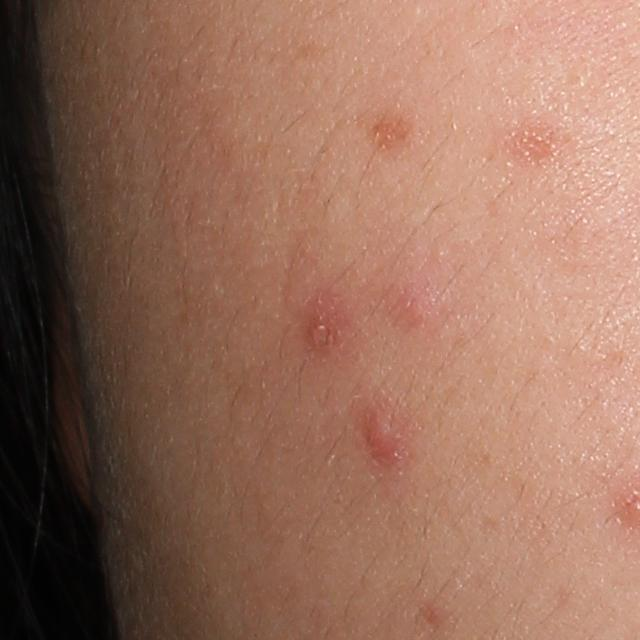papule: (380, 255, 442, 326), (296, 283, 351, 356), (357, 396, 409, 467)
